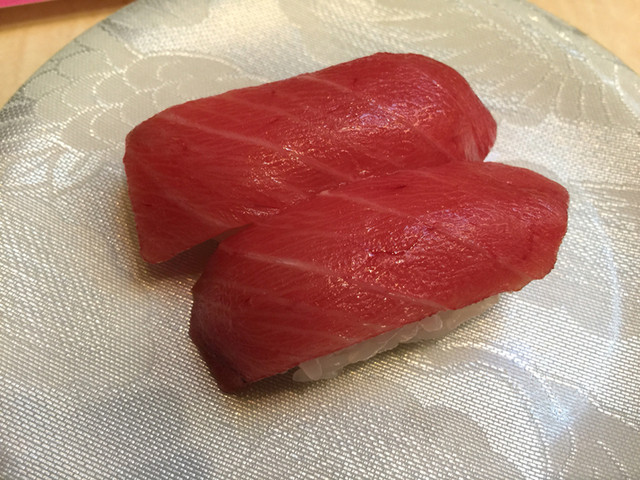medium_fatty_tuna: (210, 167, 539, 364)
